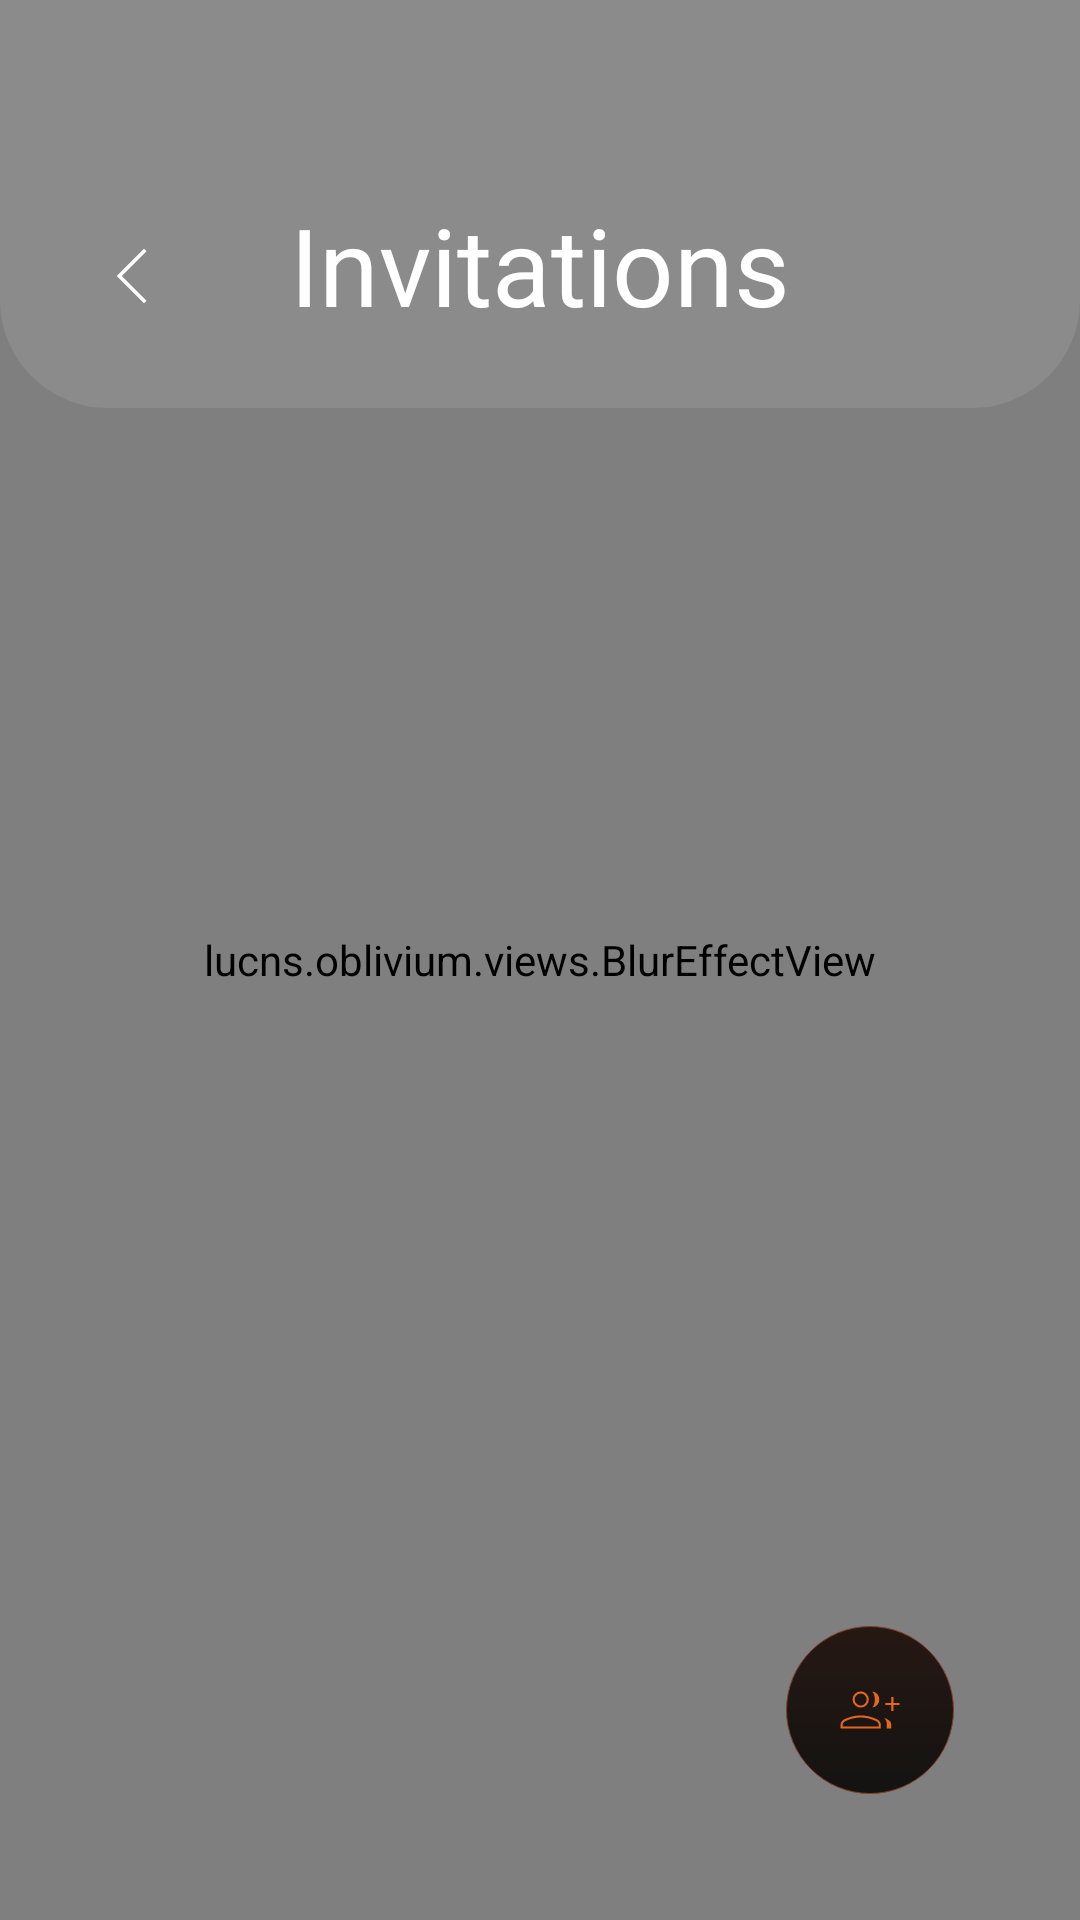

Icon bounding boxes for this 1080x1920 phone screenshot, format Rect(x1, y1, x2, y2):
arrow back: Rect(117, 249, 147, 303)
invite: Rect(786, 1626, 954, 1794)
